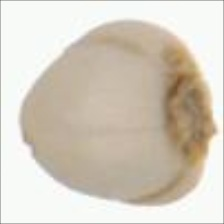L5: (159, 46, 219, 170)
L6: (15, 17, 218, 208)
